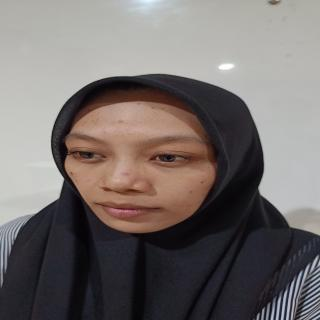Netral: (55, 85, 241, 239)
